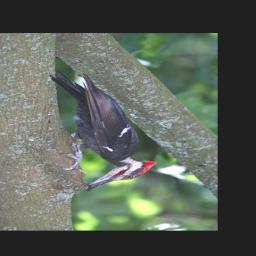Woodpecker: (49, 70, 159, 190)
